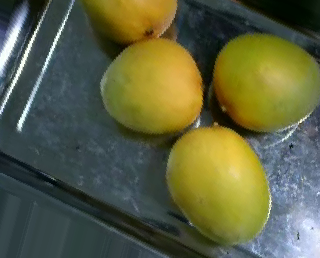Mango: (164, 123, 274, 243), (214, 26, 320, 130), (98, 35, 207, 133), (81, 0, 182, 44)
